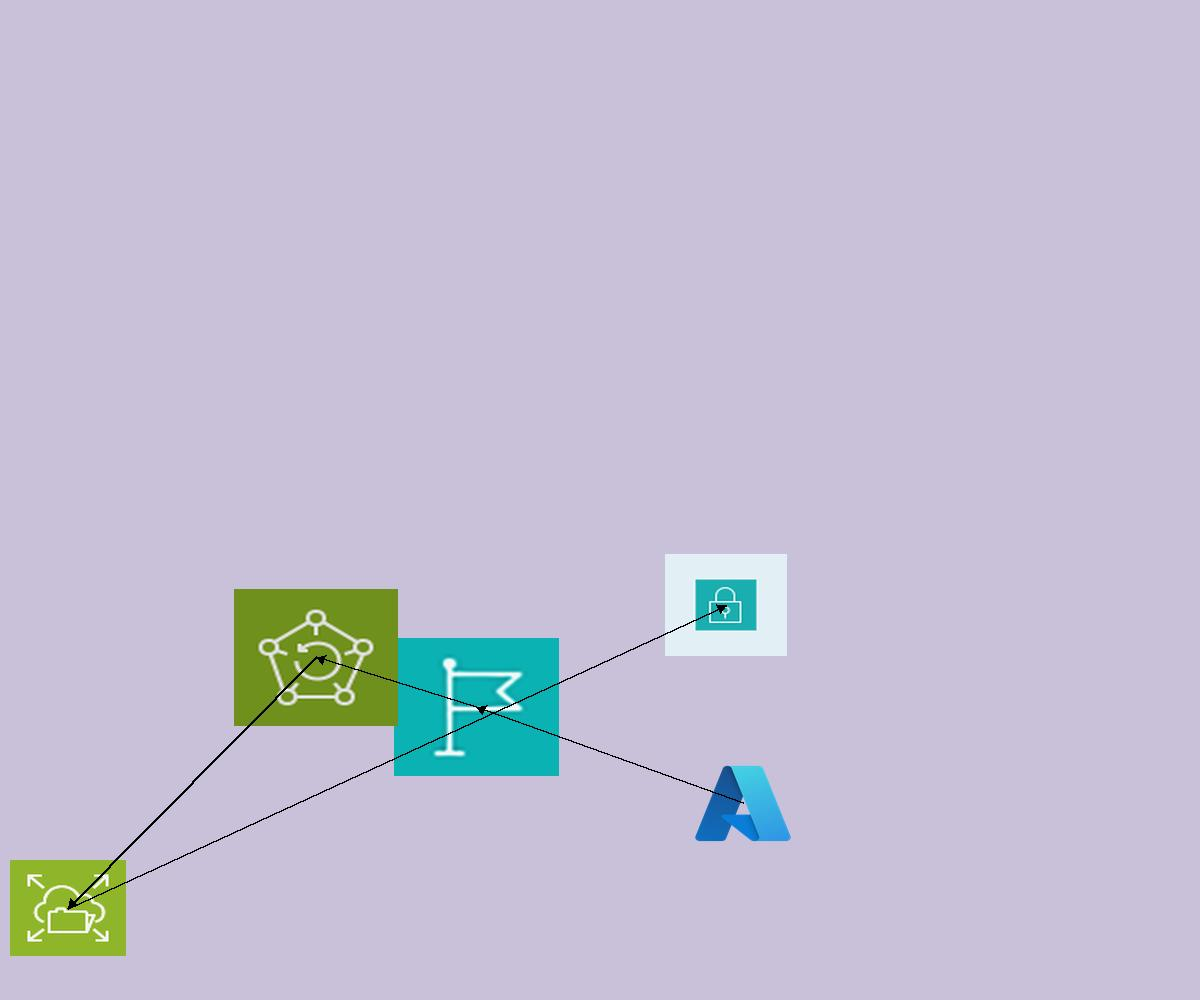AWS-Backup: (234, 589, 398, 726)
AWS-EFS: (10, 860, 126, 956)
AWS-Private-subnet: (665, 554, 787, 656)
AWS-Region: (394, 638, 559, 776)
Azure_services: (691, 760, 795, 847)
